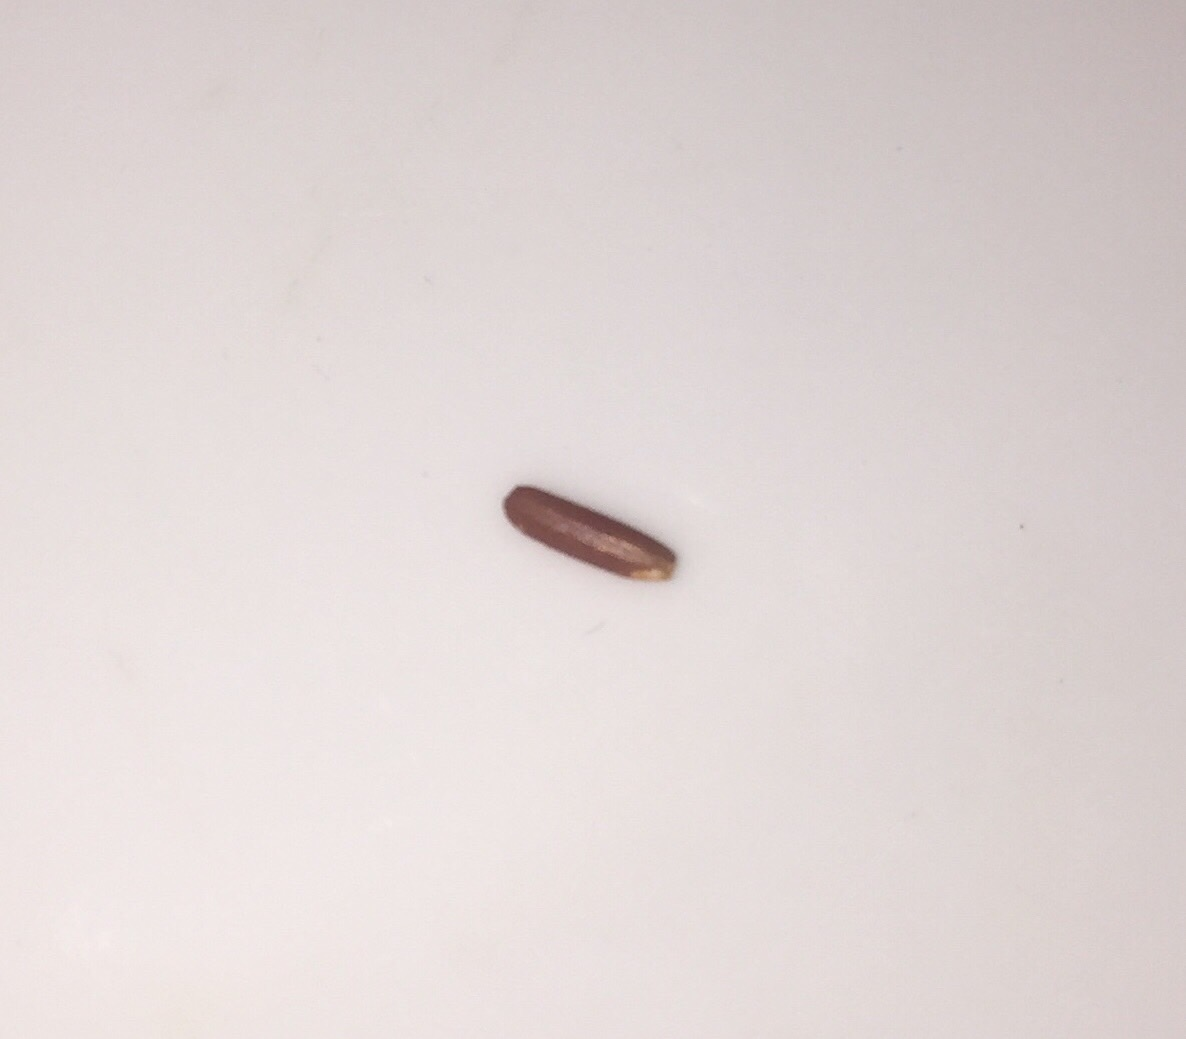Gao Huyet Rong: (490, 470, 677, 595)
